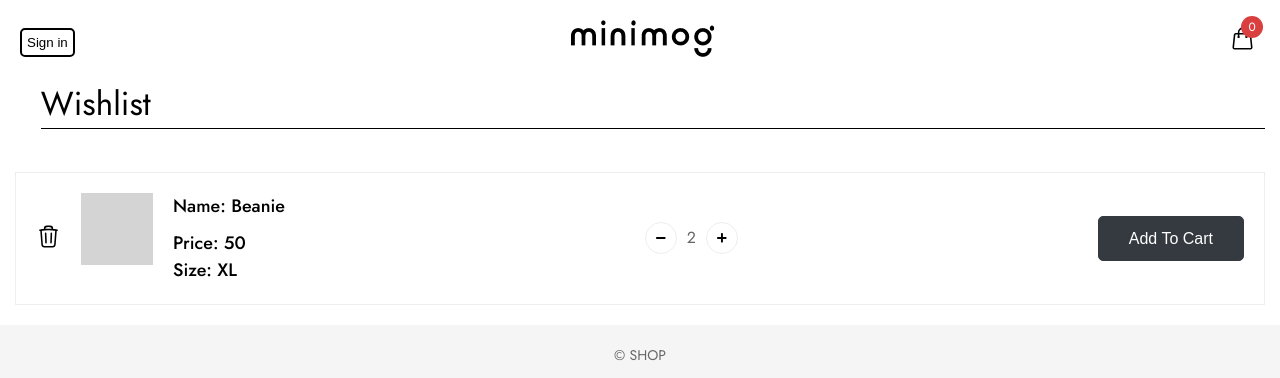
Test: wishListTest › minus count test
The image size is (1280, 378).
Expected: the heading "Wishlist" is shown, [41,0,1265,129]
Expected: the element with test id "item-count" reads "2", [687,226,696,249]
Click the button with test id "button-minus".
click(661, 238)  # box [645,222,677,254]
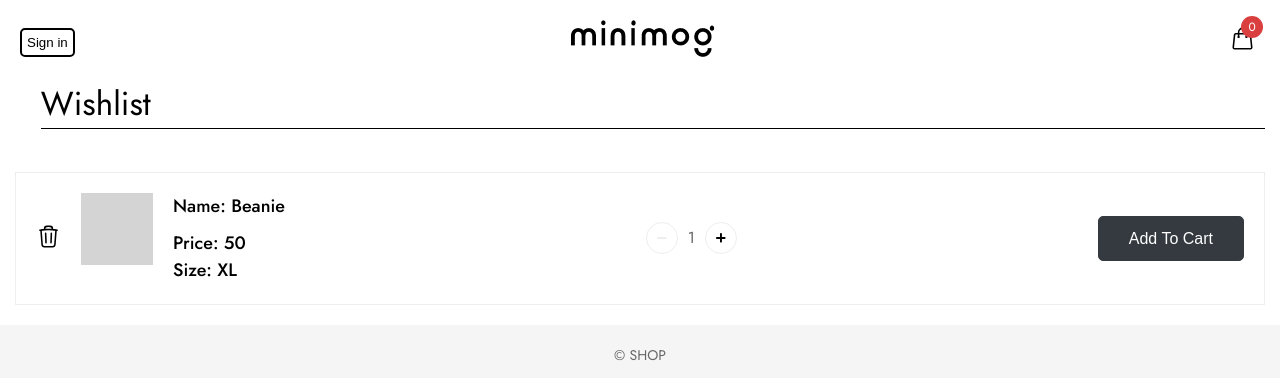
Now the element with test id "item-count" reads "1", box [688,226,695,249]
